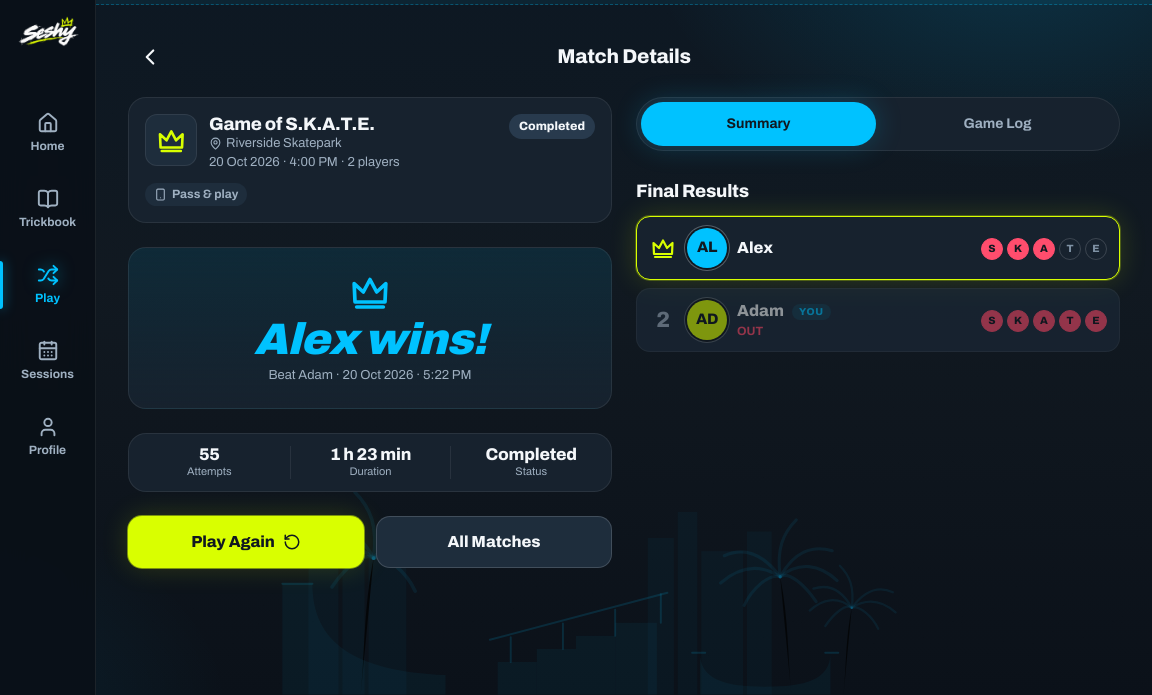
Match Details › has an expandable game log on its own tab
The width and height of the screenshot is (1152, 695).
Click the button "Game Log".
click(998, 124)  # box [880,102,1115,146]
(page scrolled)
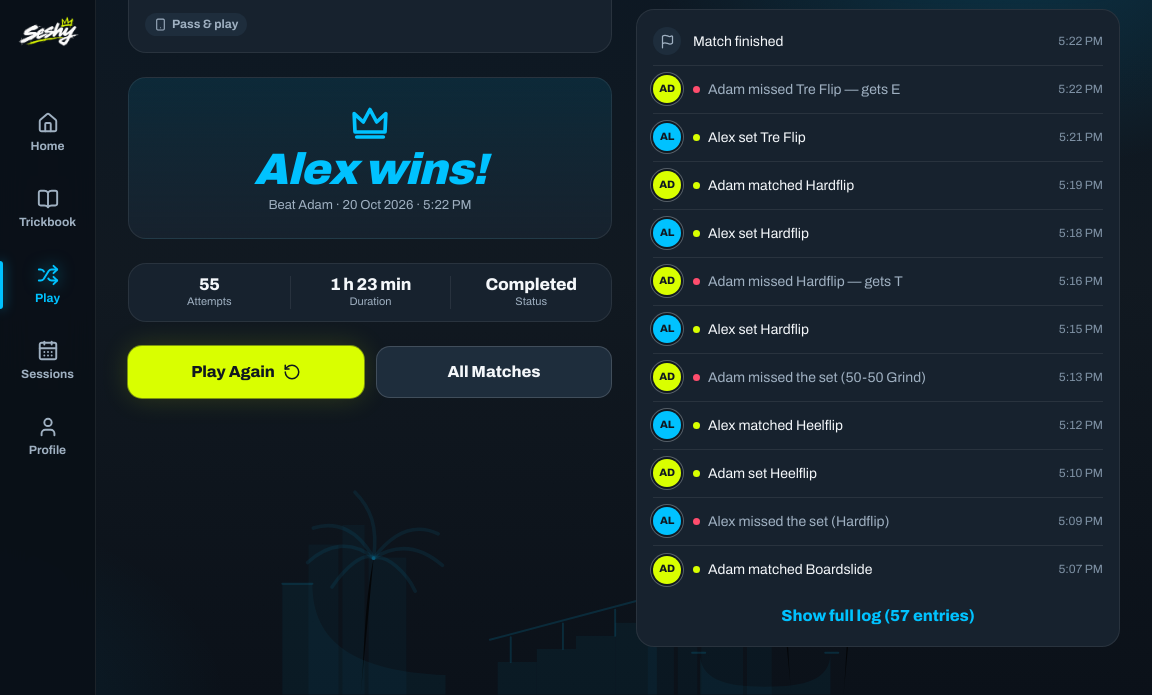
Click the button "Show full log (57 entries)".
click(878, 616)  # box [653,594,1103,638]
(page scrolled)
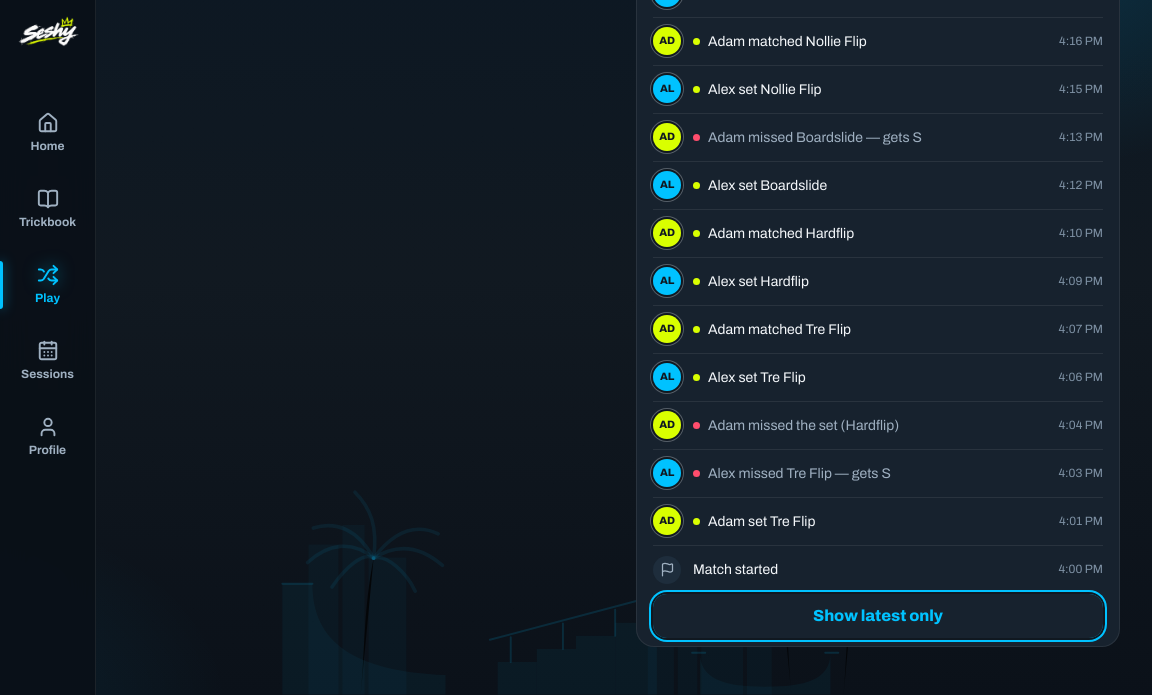
Check: the button named "Show full log" is expanded, box [653,594,1103,638]
